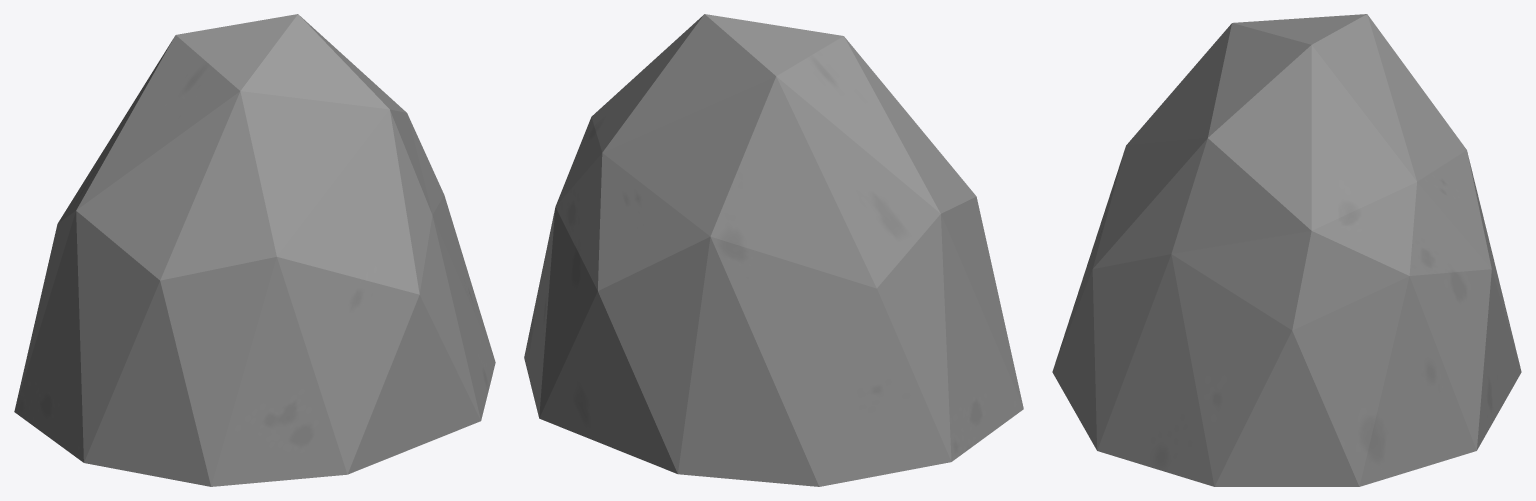
Rendered from stone.gltf.
The picture shows the model from 3 angles, left to right: view 1: azimuth 30°, elevation 25°; view 2: azimuth 150°, elevation 25°; view 3: azimuth 270°, elevation 25°; orthographic projection. The views are drawn at different scales.
Visible parts, largest first — view 1: Stone2; view 2: Stone2; view 3: Stone2.
Boxes of the visible parts, x1=… form: Stone2: x1=14, y1=14, x2=495, y2=486; Stone2: x1=524, y1=14, x2=1023, y2=486; Stone2: x1=1052, y1=14, x2=1521, y2=486.
Size of the model in its own units: 3.16 by 2.58 by 3.
Materials: 1 (1 with a texture image).
